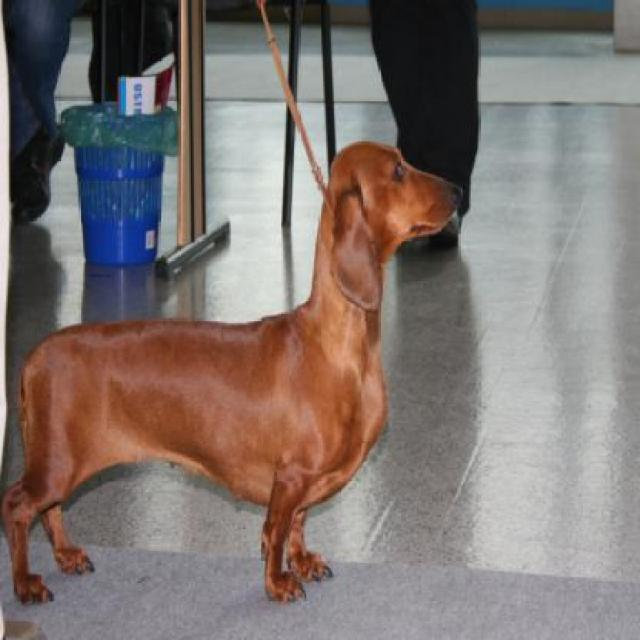Dog: (0, 139, 463, 606)
